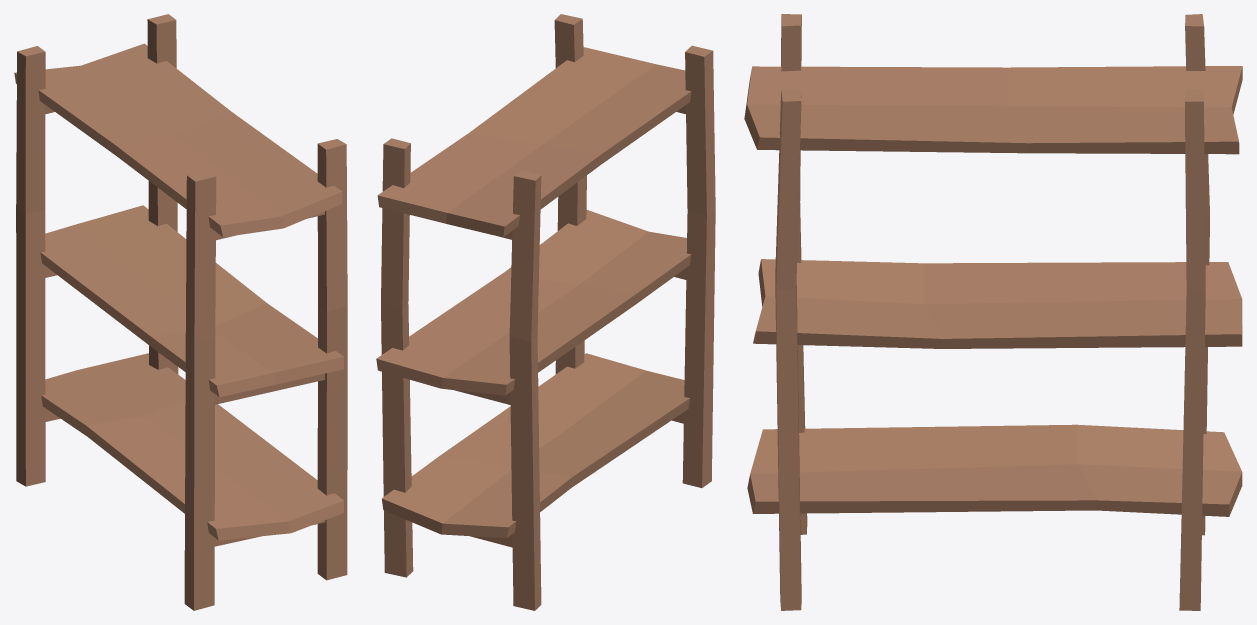
Rendered from shelf.obj.
The picture shows the model from 3 angles, left to right: view 1: azimuth 30°, elevation 25°; view 2: azimuth 150°, elevation 25°; view 3: azimuth 270°, elevation 25°; orthographic projection. The views are drawn at different scales.
Visible parts, largest first — view 1: shelf_Cube.370; view 2: shelf_Cube.370; view 3: shelf_Cube.370.
Boxes of the visible parts, left/top/right/bottom form: shelf_Cube.370: left=14, top=14, right=347, bottom=610; shelf_Cube.370: left=376, top=14, right=715, bottom=610; shelf_Cube.370: left=744, top=14, right=1242, bottom=610.
Size of the model in its own units: 0.577 by 1.53 by 1.36.
Materials: 1 (1 with a texture image).
